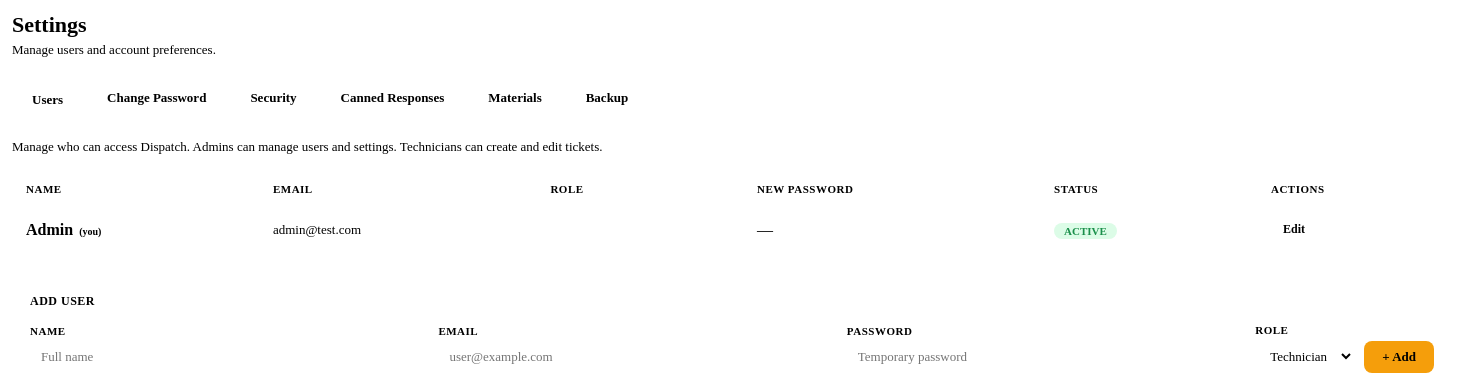
Test case: SettingsPage — Materials tab CSV import › uploads the selected file via importMaterialsCsv and refreshes the list on success
The width and height of the screenshot is (1464, 390).
Click the button "Materials": (515,100) [468,82,562,117]
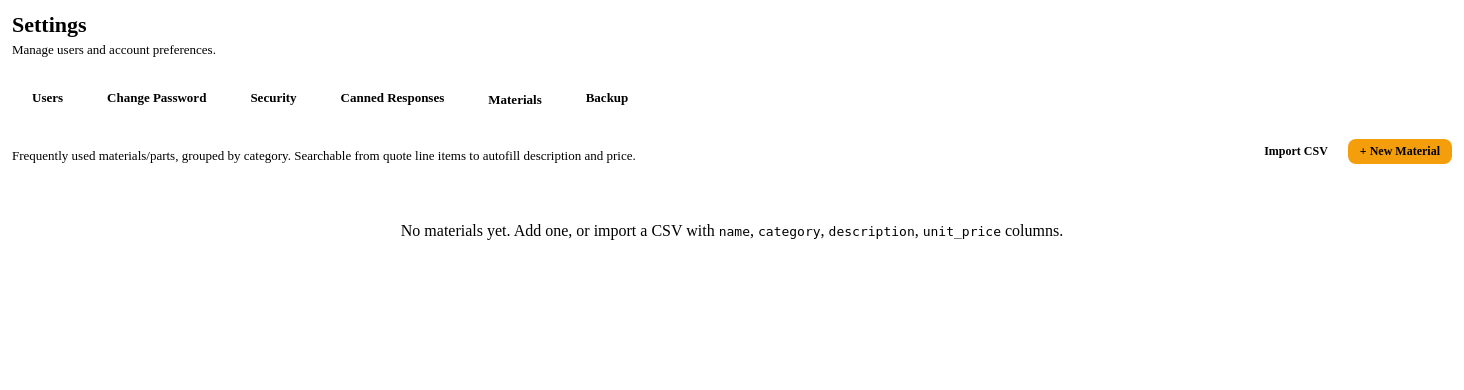
Expected: the text "No materials yet" is shown, [401,222,719,239]
